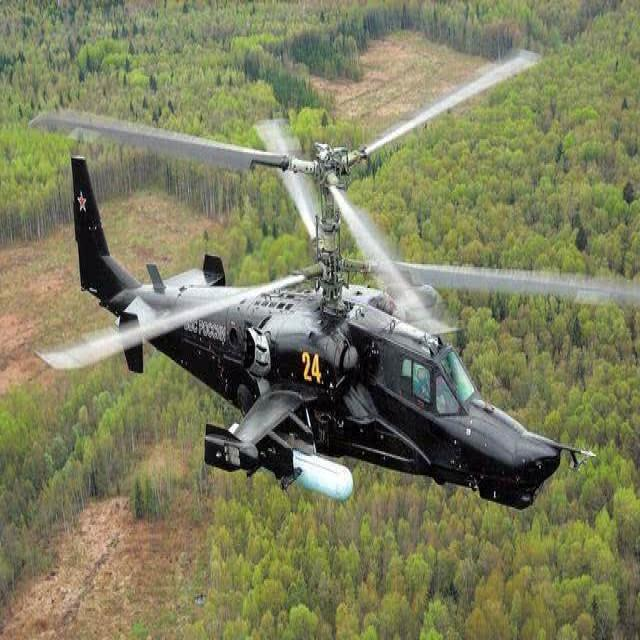MIL_HELO: (17, 48, 640, 541)
